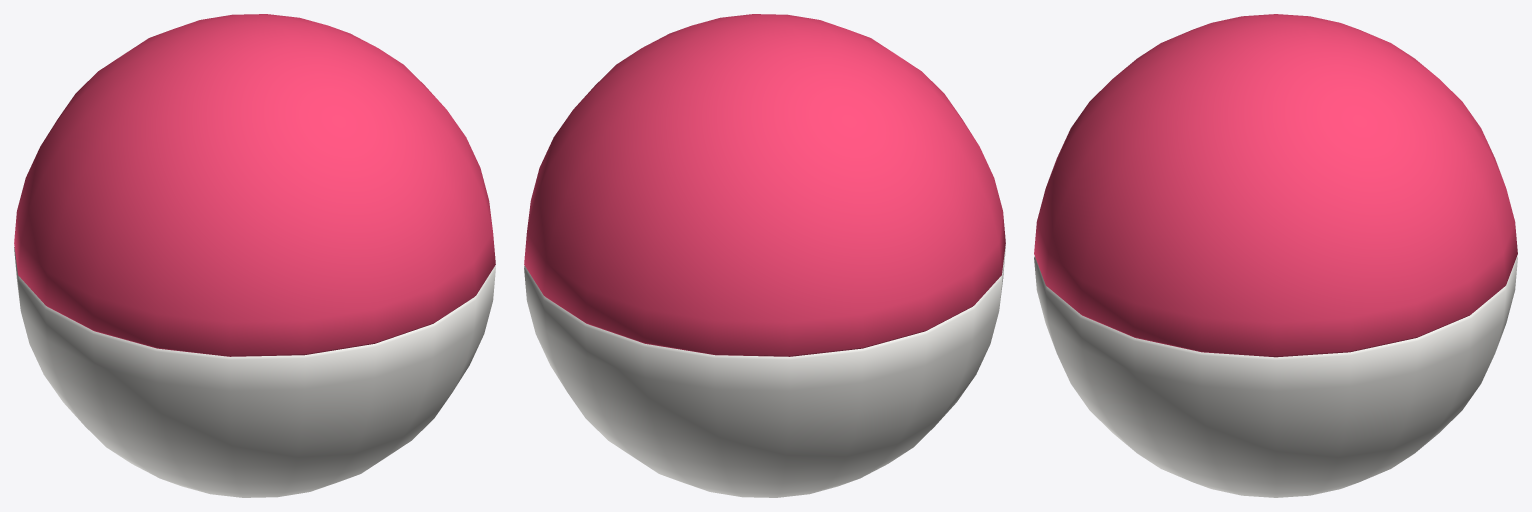
The model's file is CapsuleToyA.fbx.
The picture shows the model from 3 angles, left to right: view 1: azimuth 30°, elevation 25°; view 2: azimuth 150°, elevation 25°; view 3: azimuth 270°, elevation 25°; orthographic projection.
Visible parts, largest first — view 1: SM_VA_CapsuleToyA.mo; view 2: SM_VA_CapsuleToyA.mo; view 3: SM_VA_CapsuleToyA.mo.
Boxes of the visible parts, x1=… form: SM_VA_CapsuleToyA.mo: x1=14, y1=14, x2=495, y2=497; SM_VA_CapsuleToyA.mo: x1=524, y1=14, x2=1005, y2=497; SM_VA_CapsuleToyA.mo: x1=1034, y1=14, x2=1517, y2=497.
Size of the model in its own units: 0.9992 by 1 by 0.9992.
